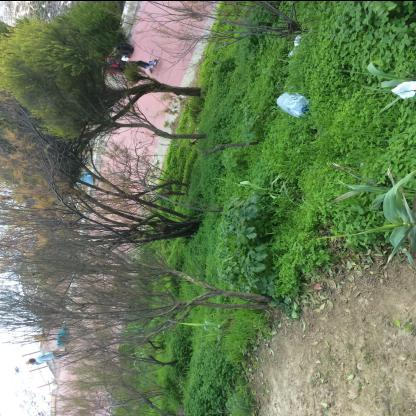plastik: (276, 91, 312, 117)
